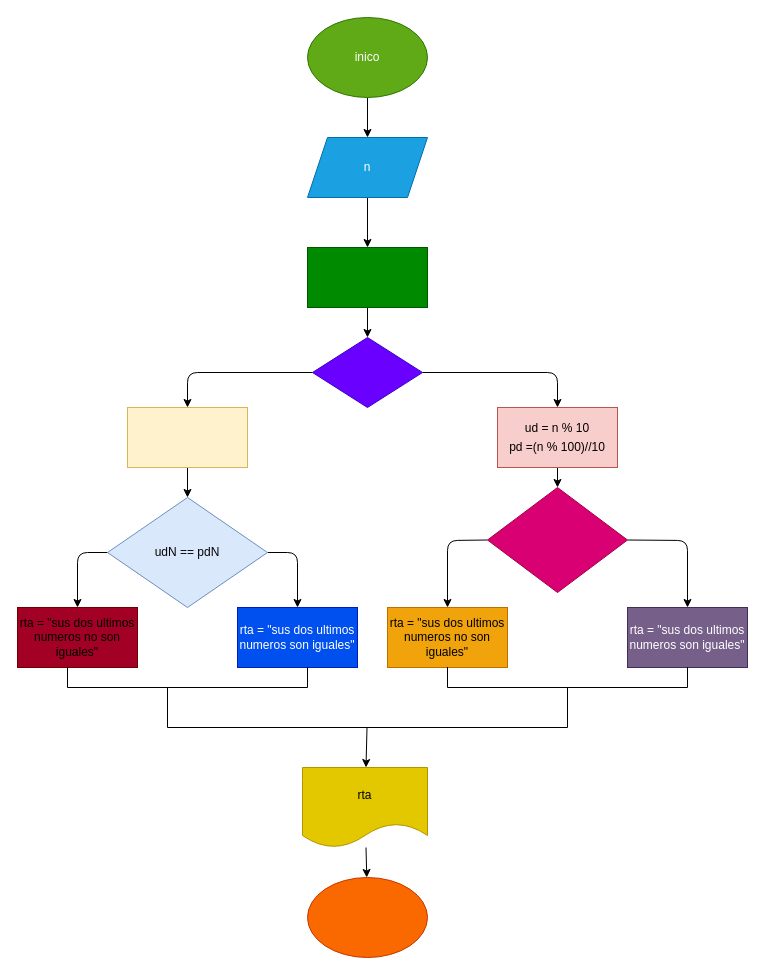
Image size: 765x975. Some labels were removed from this diagram. The shapes that lost their labels are listed below. From the top down, each one's box as (x1, y1, x2, y2) in pixels, then its label:
(306, 246, 428, 308): ud= n%10 pd= (n%100)//10
(312, 336, 422, 408): n > 0
(126, 406, 248, 468): udN = - ( n % 10 ) pdN = -(n % 100)//10
(486, 486, 628, 592): ud == pd
(306, 876, 428, 958): fin
